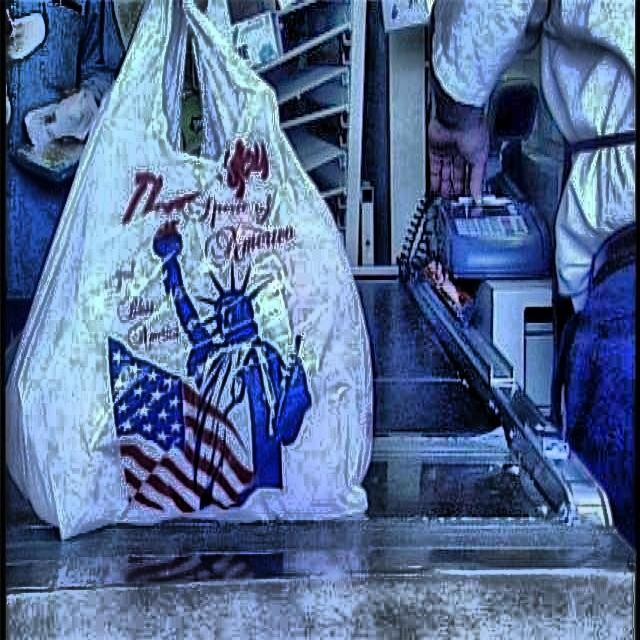Plastic: (11, 2, 417, 542)
